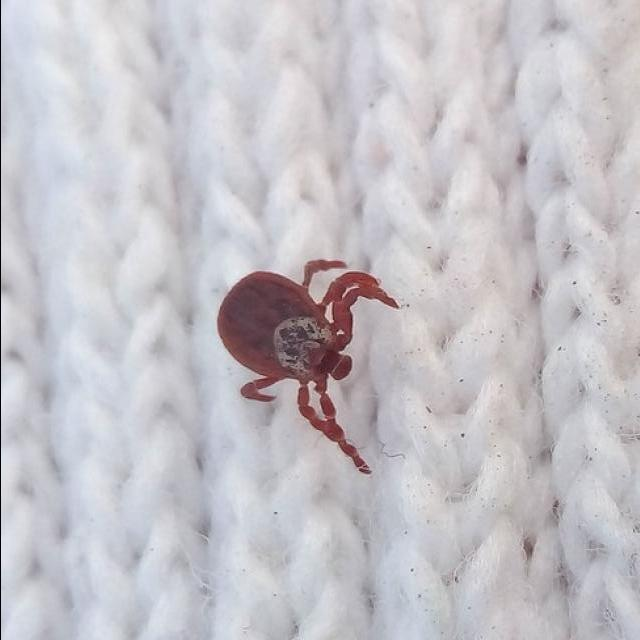Dermacentor Reticulatus-F: (216, 259, 399, 472)
